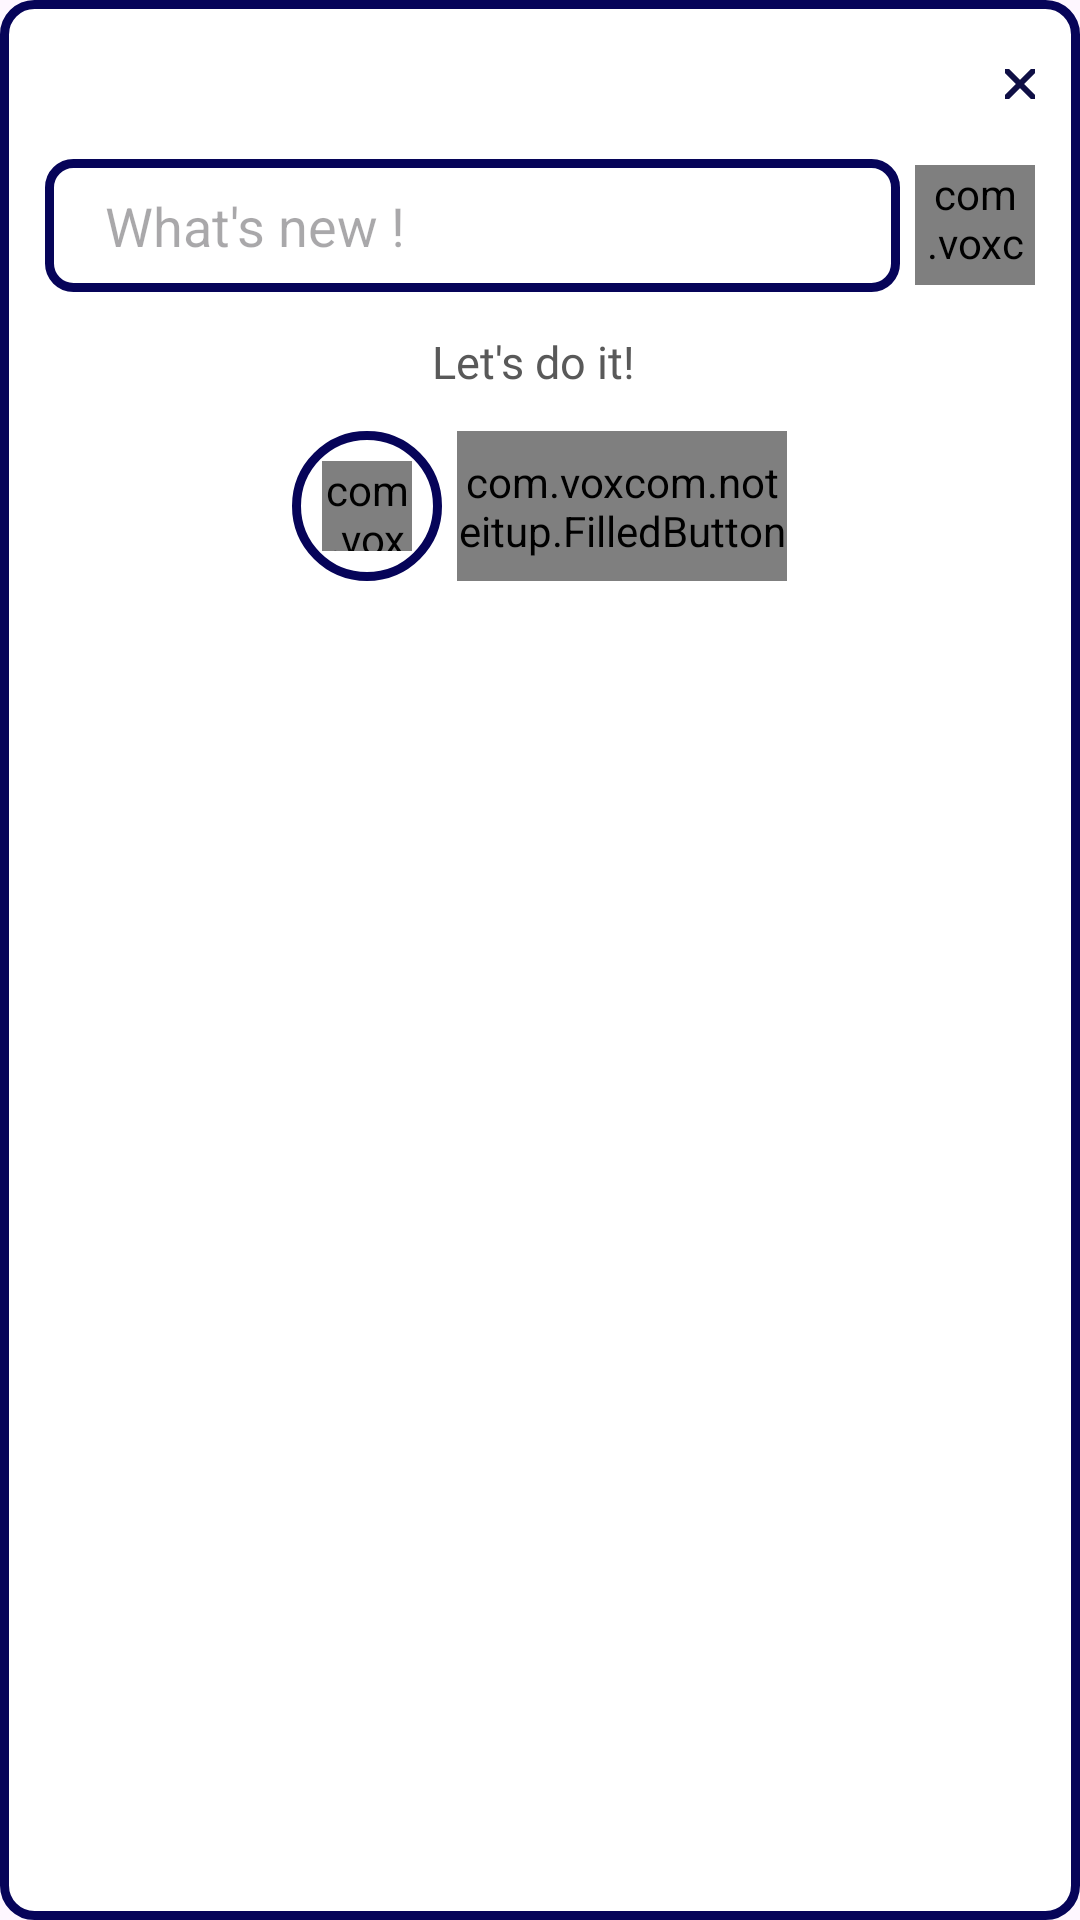

Point at icon controls on the screen. Image size 1080*1920, points as (x=x, y=y).
close: (x=1020, y=84)
